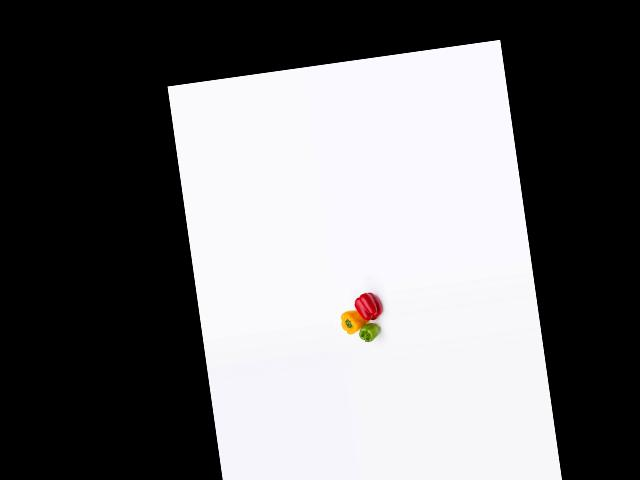bell_pepper: (356, 321, 383, 348)
